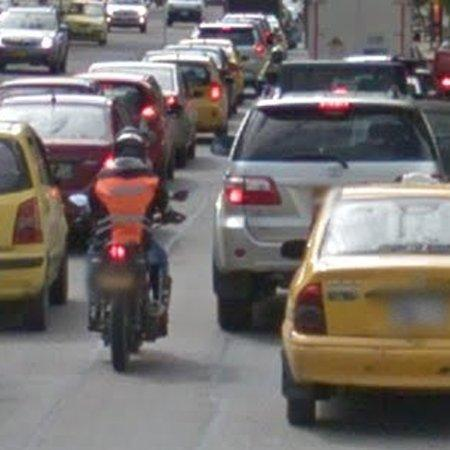taxis: (283, 173, 450, 426), (0, 122, 67, 331), (149, 53, 229, 134)
